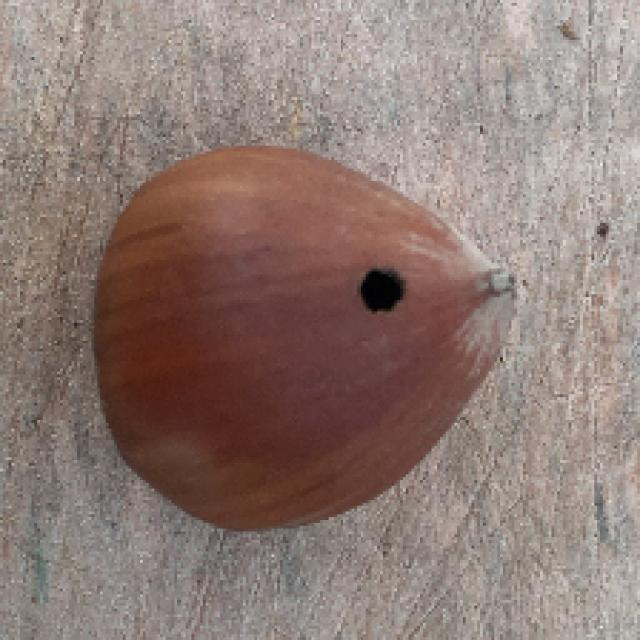damagedHazelnut: (84, 136, 526, 540)
